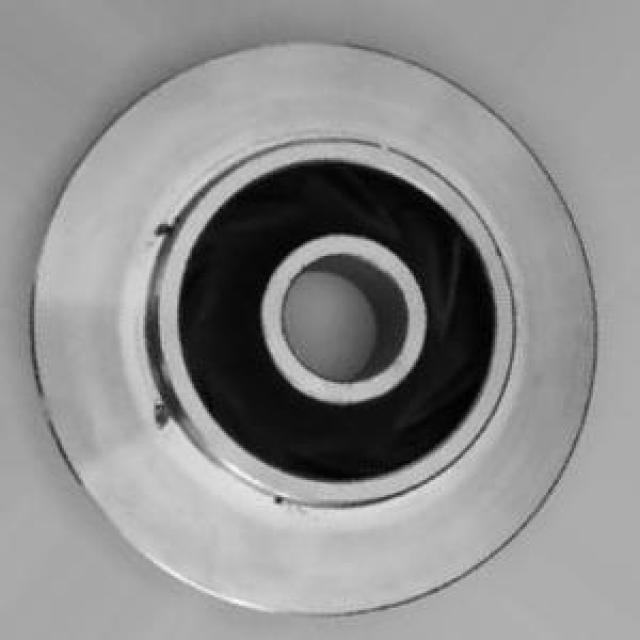Defect: (144, 212, 187, 246)
